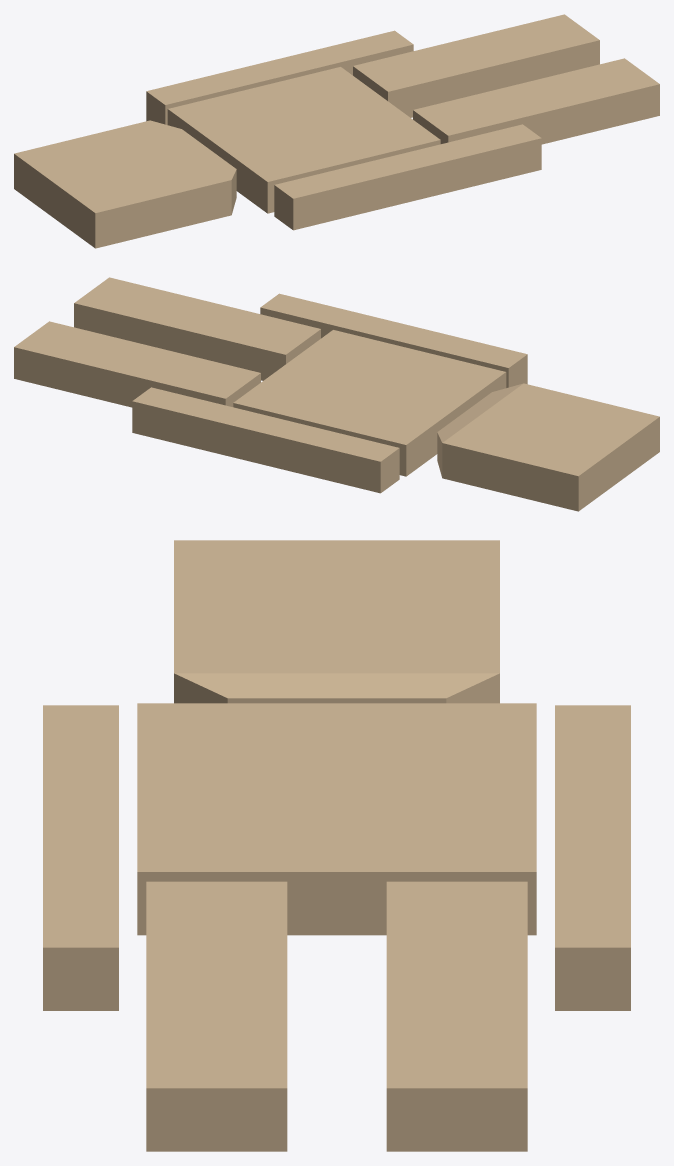
The model's file is body.fbx.
3 renders of one model, top to bottom at view 1: azimuth 30°, elevation 25°; view 2: azimuth 150°, elevation 25°; view 3: azimuth 270°, elevation 25°, orthographic. The views are drawn at different scales.
Parts seen in each view (by area): view 1: Cube.002; view 2: Cube.002; view 3: Cube.002.
Part boxes in pixels (x1,y1,x2,y2): Cube.002: (14, 14, 659, 248); Cube.002: (14, 277, 659, 511); Cube.002: (43, 540, 630, 1151).
Size of the model in its own units: 580 by 35.16 by 265.
